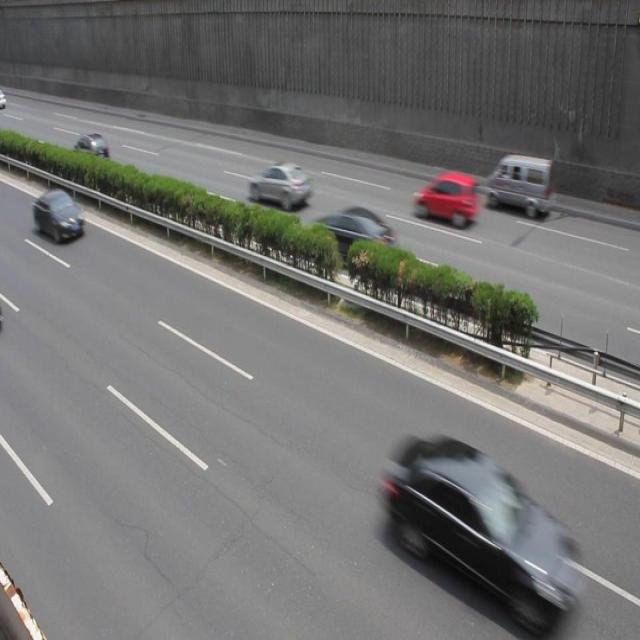car: (383, 436, 577, 608), (306, 206, 399, 273), (411, 172, 478, 229), (248, 161, 312, 211), (32, 188, 84, 245), (72, 132, 110, 170)
truck: (483, 155, 553, 216)
